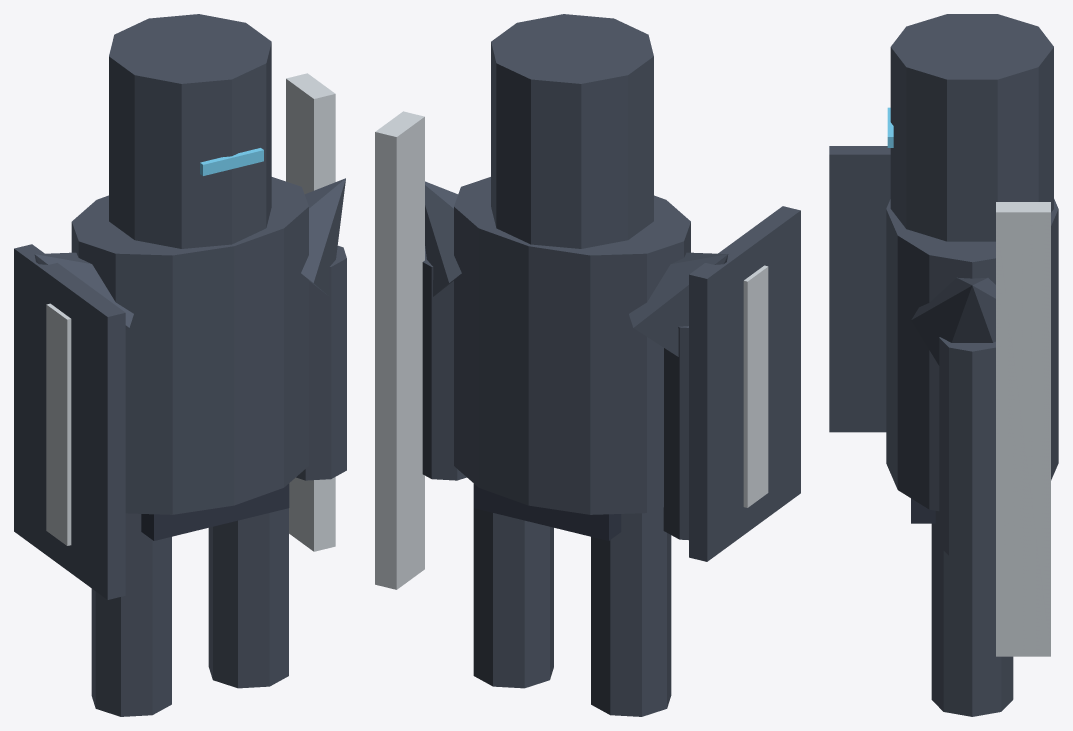
File: enemy_knight.glb
3 renders of one model, left to right at view 1: azimuth 30°, elevation 25°; view 2: azimuth 150°, elevation 25°; view 3: azimuth 270°, elevation 25°, orthographic.
Parts seen in each view (by area): view 1: Cylinder, Cylinder.001, Cube.002, Cylinder.003, Cylinder.002, Cube.004, Cylinder.005, Cube.003, Cone.001, Cube, Cone, Cube.001; view 2: Cylinder, Cylinder.001, Cube.002, Cube.004, Cylinder.002, Cylinder.003, Cylinder.005, Cube.003, Cylinder.004, Cone, Cube, Cone.001; view 3: Cylinder.001, Cube.004, Cylinder, Cube.002, Cylinder.005, Cylinder.003, Cone.001, Cube.
Part boxes in pixels (box(x1,y1,x2,y2)): Cylinder: box(71, 177, 308, 514); Cylinder.001: box(109, 14, 271, 248); Cube.002: box(14, 244, 125, 599); Cylinder.003: box(208, 508, 288, 688); Cylinder.002: box(91, 513, 171, 716); Cube.004: box(286, 73, 335, 551); Cylinder.005: box(296, 245, 346, 480); Cube.003: box(46, 303, 71, 545); Cone.001: box(301, 178, 345, 296); Cube: box(141, 483, 289, 540); Cone: box(34, 252, 133, 329); Cube.001: box(200, 148, 263, 175); Cylinder: box(454, 177, 690, 514); Cylinder.001: box(491, 14, 653, 248); Cube.002: box(689, 206, 800, 561); Cube.004: box(375, 111, 424, 589); Cylinder.002: box(591, 507, 671, 716); Cylinder.003: box(473, 508, 553, 688); Cylinder.005: box(422, 246, 466, 480); Cube.003: box(743, 265, 768, 507); Cylinder.004: box(663, 326, 688, 540); Cone: box(629, 252, 728, 356); Cube: box(473, 483, 621, 540); Cone.001: box(425, 181, 461, 296); Cylinder.001: box(890, 14, 1053, 241); Cube.004: box(996, 202, 1050, 656); Cylinder: box(886, 199, 1058, 511); Cube.002: box(829, 146, 890, 432); Cylinder.005: box(939, 337, 995, 559); Cylinder.003: box(931, 511, 1013, 716); Cone.001: box(911, 277, 995, 365); Cube: box(911, 498, 935, 523).
Bounding box in the file's own units: 1.41 × 2.7 × 0.8975.
